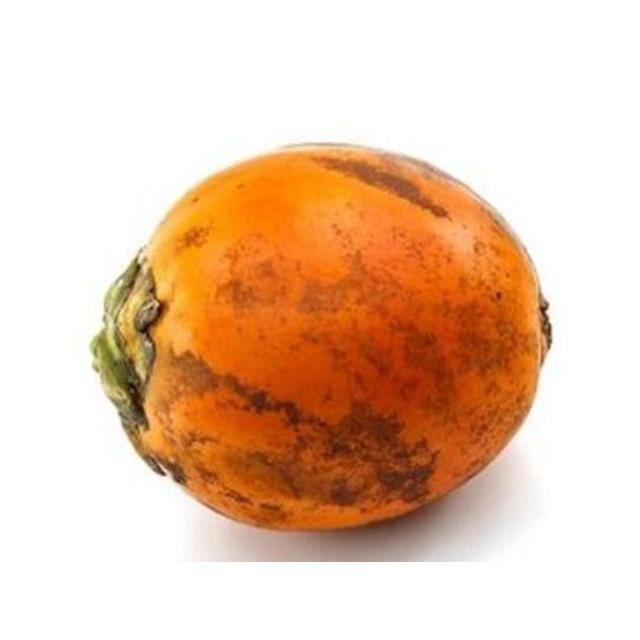good: (90, 143, 552, 533)
